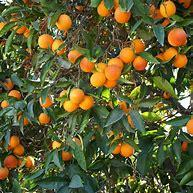orange: (2, 135, 51, 181), (64, 90, 114, 127), (91, 60, 121, 92), (116, 38, 154, 63), (37, 35, 75, 56), (167, 20, 191, 49)
